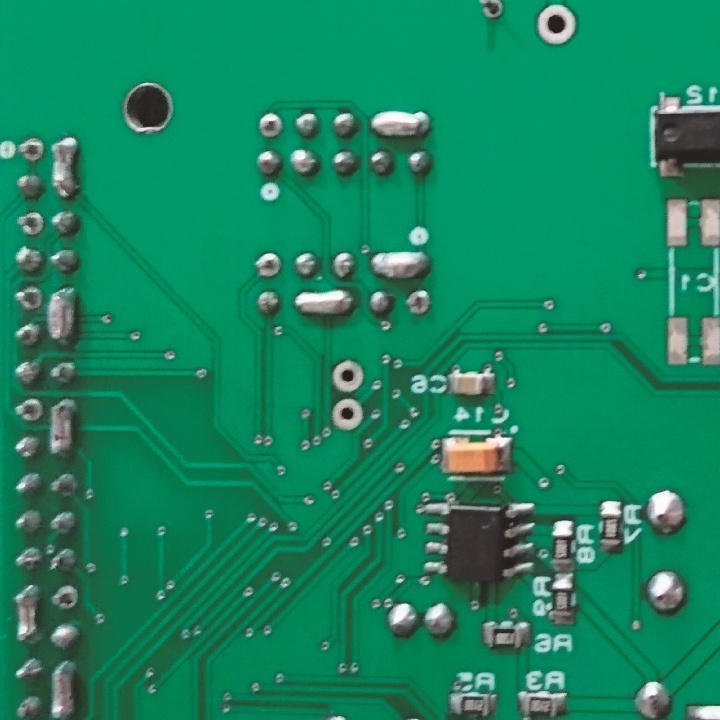F: (533, 3, 579, 47), (328, 395, 364, 435), (330, 359, 368, 395), (401, 286, 435, 319), (252, 249, 284, 282), (13, 209, 46, 240), (11, 282, 45, 311), (254, 110, 285, 141), (49, 583, 81, 612), (15, 135, 45, 165), (12, 395, 43, 424), (476, 1, 505, 23)
P: (50, 136, 81, 203), (368, 107, 430, 140), (293, 287, 357, 318), (369, 250, 433, 280), (47, 394, 76, 460), (12, 584, 40, 645), (47, 286, 75, 345), (49, 661, 77, 720)
